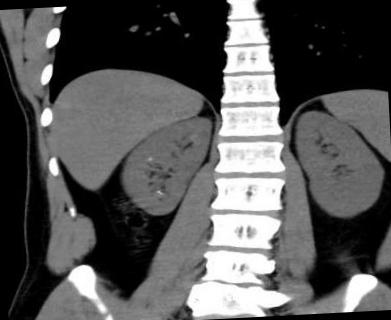Tas_Var: (156, 188, 163, 196), (146, 157, 152, 162)
